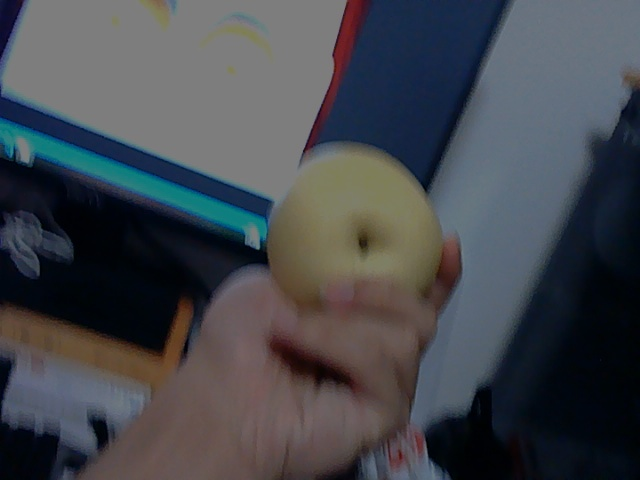pear: (268, 145, 443, 308)
